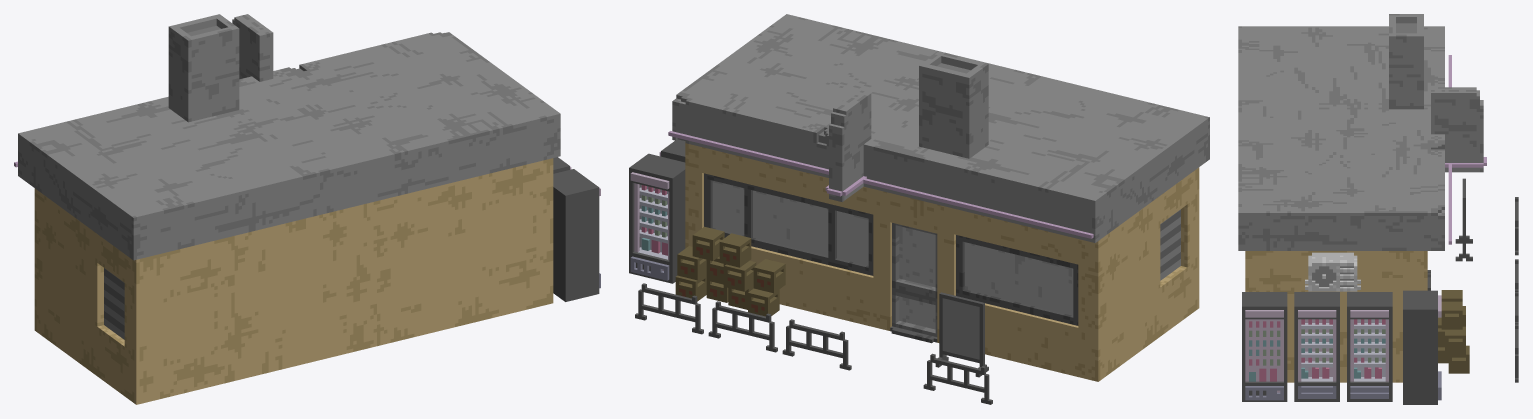
File: Shop-0-ShopBuilding_1.obj
The picture shows the model from 3 angles, left to right: view 1: azimuth 30°, elevation 25°; view 2: azimuth 150°, elevation 25°; view 3: azimuth 270°, elevation 25°; orthographic projection. The views are drawn at different scales.
Visible parts, largest first — view 1: ShopBuilding_1; view 2: ShopBuilding_1; view 3: ShopBuilding_1.
Part boxes in pixels (x1,y1,x2,y2): ShopBuilding_1: [14, 14, 600, 404]; ShopBuilding_1: [629, 14, 1209, 404]; ShopBuilding_1: [1238, 14, 1518, 404].
Size of the model in its own units: 14 by 7.7 by 8.
1 material, 1 textured.
